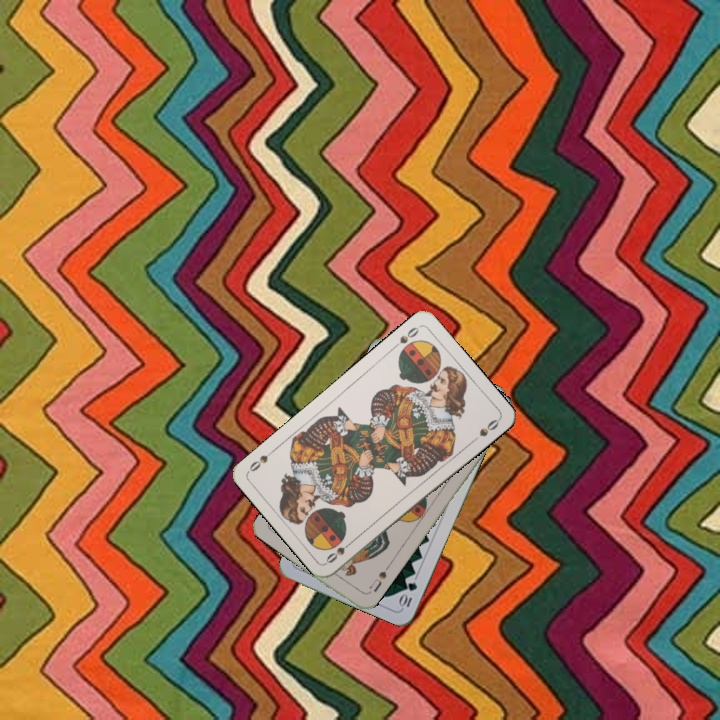G10: (396, 578, 420, 611)
SO: (322, 536, 357, 566), (388, 322, 422, 352)
SU: (365, 562, 392, 595)
